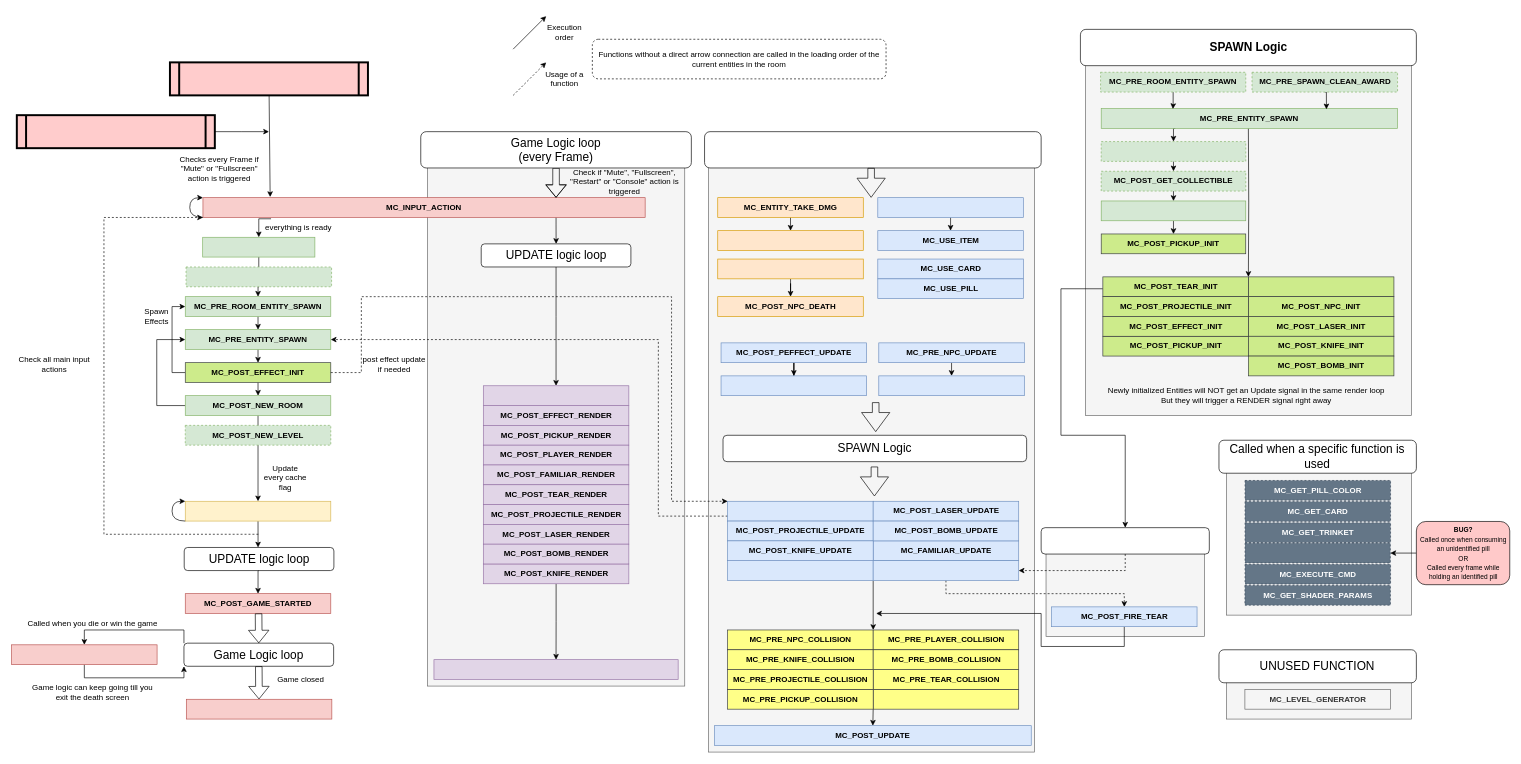
Image size: 1521x764. Some labels were removed from this diagram. Each missing label, with the centre of its shape:
"Entered new Level" belongs at point (115, 131).
"Game Start" belongs at point (269, 78).
"MC_EVALUATE_CACHE" belongs at point (258, 511).
"MC_FAMILIAR_INIT" belongs at point (1321, 286).
"MC_GET_PILL_EFFECT" belongs at point (1317, 553).
"MC_NPC_UPDATE" belongs at point (951, 385).
"MC_POST_CURSE_EVAL" belongs at point (258, 276).
"MC_POST_EFFECT_UPDATE" belongs at point (800, 511).
"MC_POST_ENTITY_KILL" belongs at point (790, 240).
"MC_POST_ENTITY_REMOVE" belongs at point (790, 268).
"MC_POST_GAME_END" belongs at point (84, 654).
"MC_POST_NPC_RENDER" belongs at point (556, 395).
"MC_POST_PICKUP_SELECTION" belongs at point (1173, 210).
"MC_POST_PICKUP_UPDATE" belongs at point (800, 570).
"MC_POST_PLAYER_INIT" belongs at point (258, 247).
"MC_POST_PLAYER_UPDATE" belongs at point (793, 385).
"MC_POST_RENDER" belongs at point (555, 669).
"MC_POST_TEAR_UPDATE" belongs at point (946, 570).
"MC_PRE_FAMILIAR_COLLISION" belongs at point (946, 699).
"MC_PRE_GAME_EXIT" belongs at point (259, 709).
"MC_PRE_GET_COLLECTIBLE" belongs at point (1173, 151).
"MC_PRE_USE_ITEM" belongs at point (950, 207).
"TEAR SPAWN Logic" belongs at point (1124, 540).
"UPDATE Logic (only if something specific changed)" belongs at point (872, 149).
